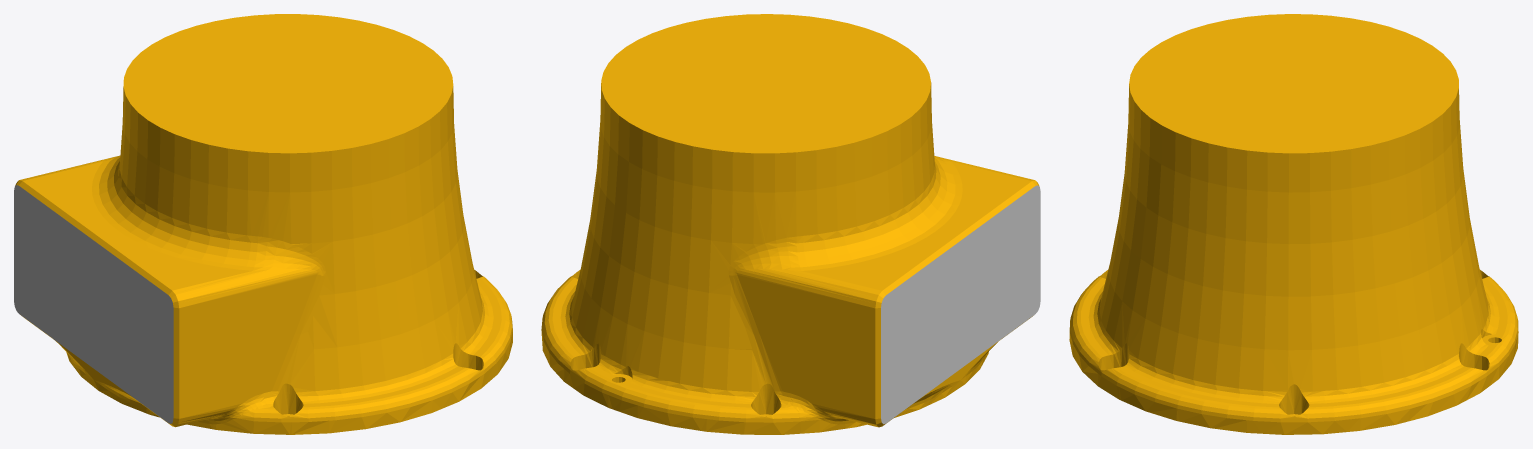
The picture shows the model from 3 angles, left to right: view 1: azimuth 30°, elevation 25°; view 2: azimuth 150°, elevation 25°; view 3: azimuth 270°, elevation 25°; orthographic projection.
Visible parts, largest first — view 1: base; view 2: base; view 3: base.
Part boxes in pixels (bbox=[...]): base: bbox=[14, 14, 512, 434]; base: bbox=[541, 14, 1040, 434]; base: bbox=[1069, 14, 1518, 434].
Bounding box in the file's own units: 0.1619 × 0.1619 × 0.102.
